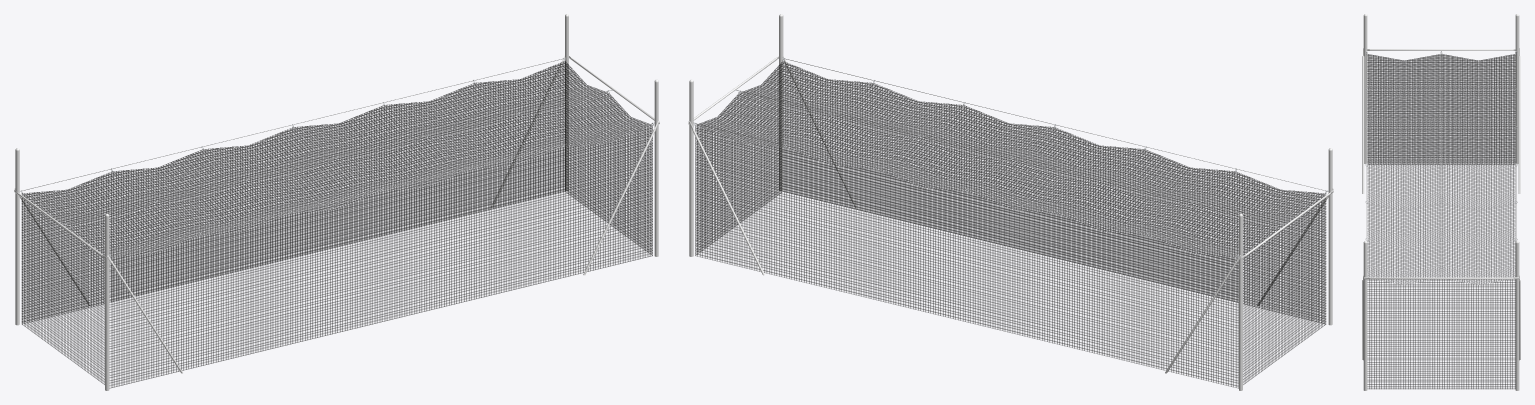
The model's file is Outdoor Collegiate 55.glb.
3 views of the same model, side by side, from view 1: azimuth 30°, elevation 25°; view 2: azimuth 150°, elevation 25°; view 3: azimuth 270°, elevation 25° (orthographic). The views are drawn at different scales.
Visible parts, largest first — view 1: Playground.008, Frame.010; view 2: Playground.008, Frame.010; view 3: Playground.008, Frame.010.
Part boxes in pixels (x1,y1,x2,y2): Playground.008: (21, 61, 652, 388); Frame.010: (14, 14, 659, 390); Playground.008: (695, 61, 1326, 388); Frame.010: (688, 14, 1333, 390); Playground.008: (1367, 54, 1515, 389); Frame.010: (1362, 14, 1520, 390).
Size of the model in its own units: 16.13 by 4.89 by 4.7.
4 materials, 1 textured.
